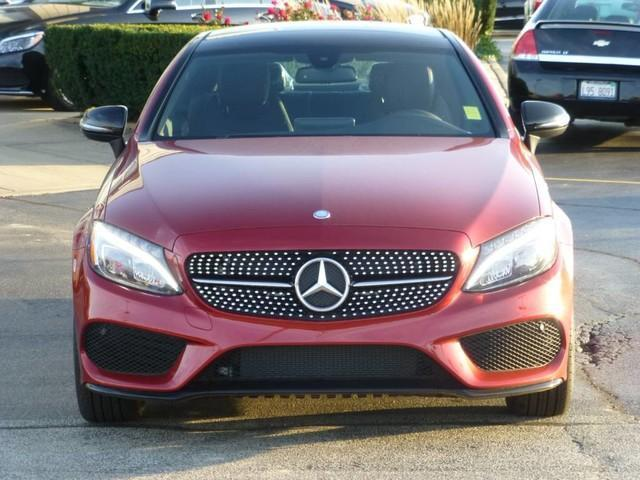C300Coupe: (66, 18, 580, 431)
